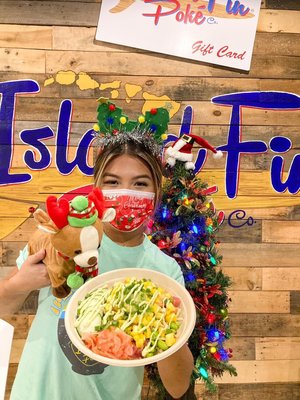sandwich: (56, 99, 74, 175)
sushi: (64, 268, 197, 368)
